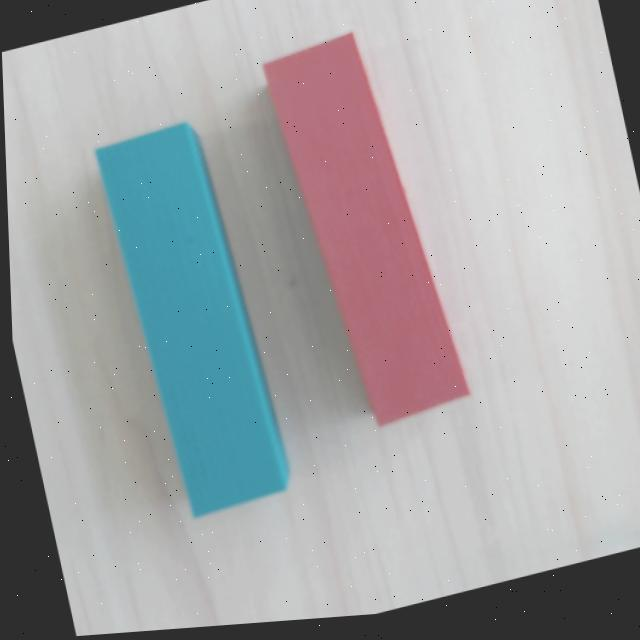Balok-Hijau-1002525: (90, 120, 293, 518)
Balok-Merah-1002525: (258, 32, 469, 426)
